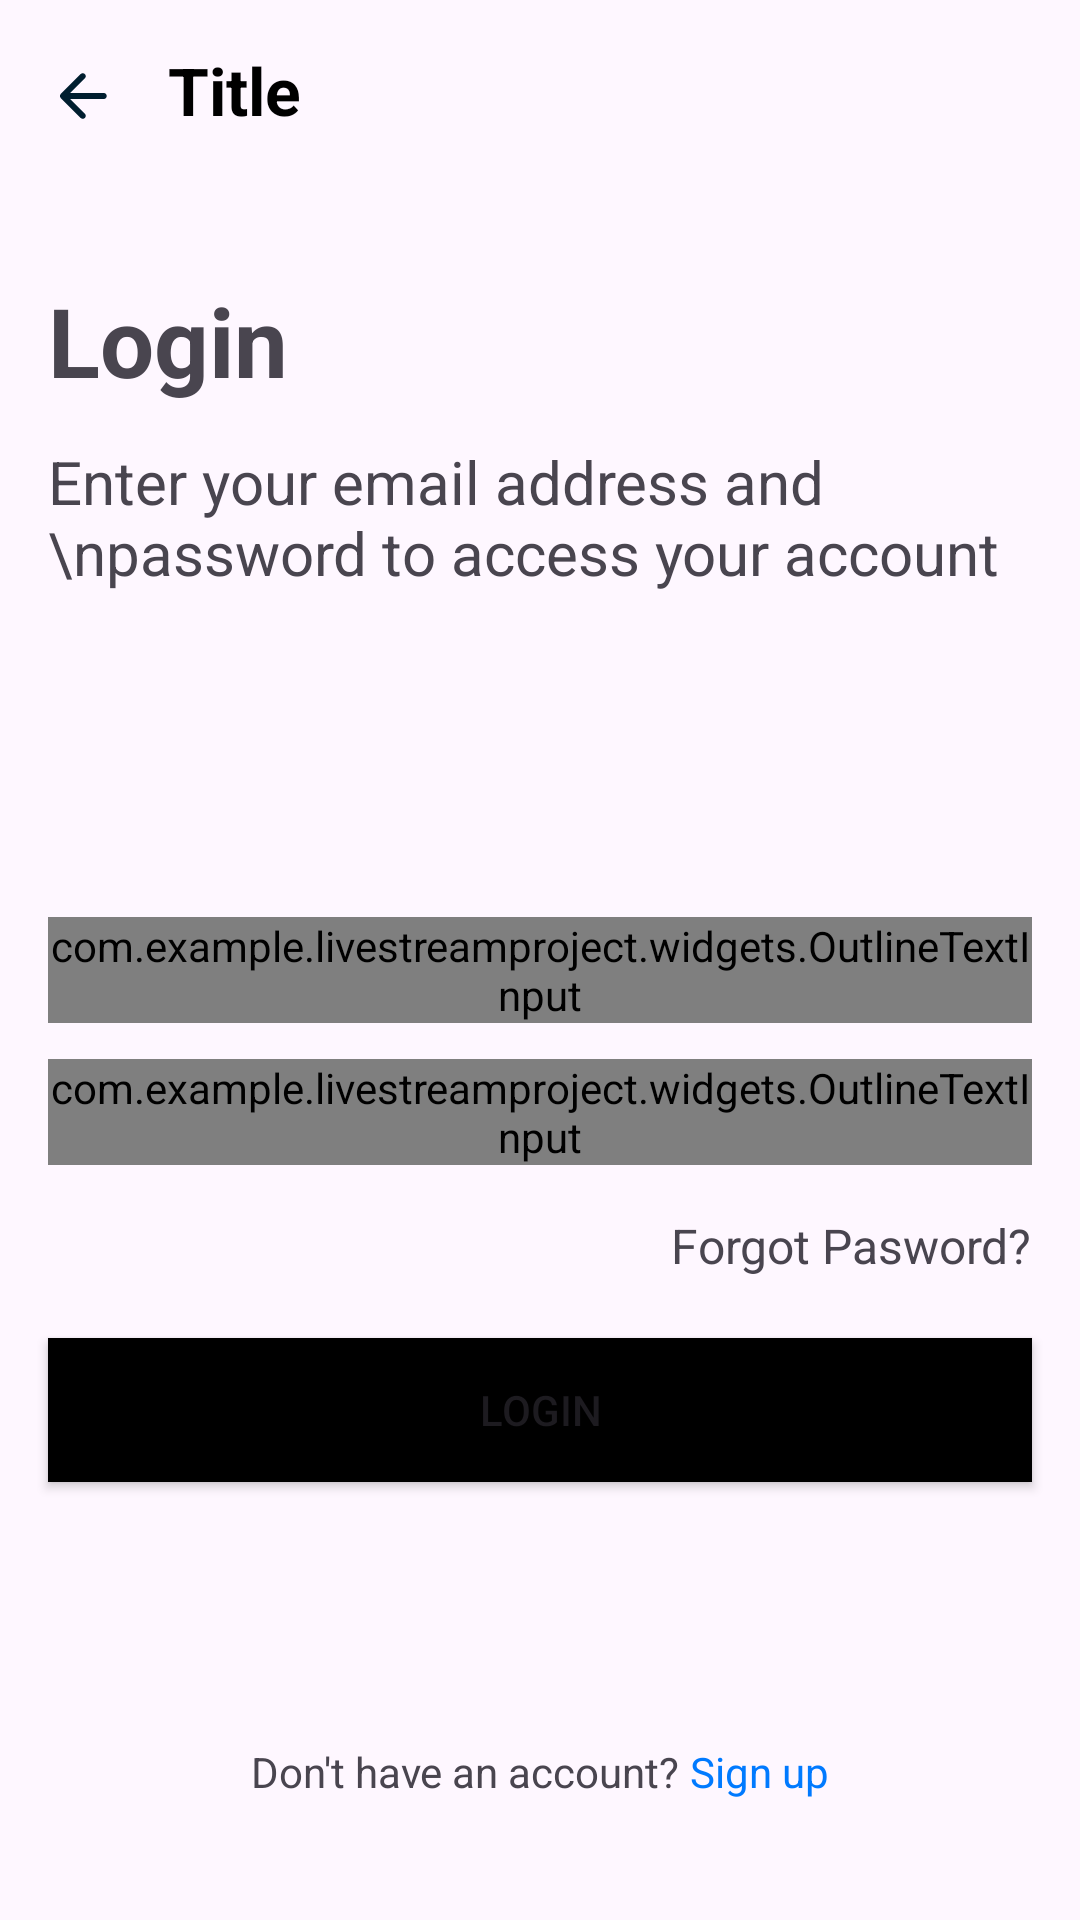

Locate icon controls on the screen. Image size 1080px x 1920px, boxes as (x1, y1, x2, y2).
back: (60, 73, 107, 119)
